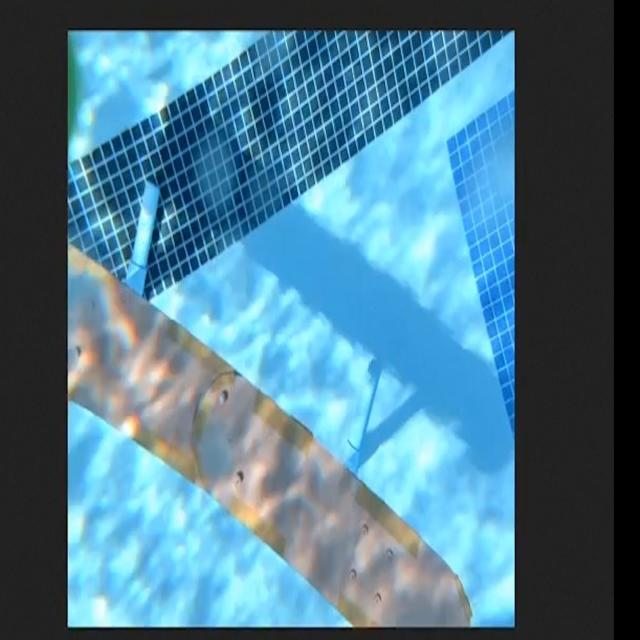Path: (68, 204, 480, 624)
